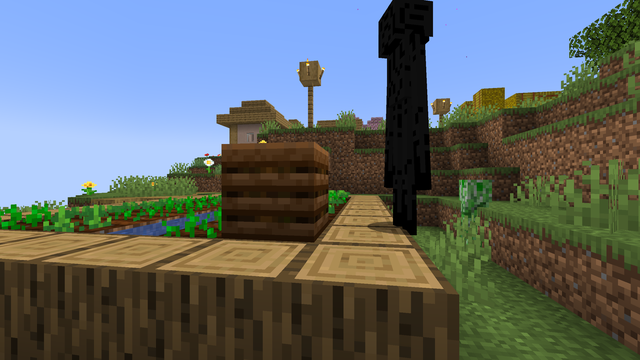creepers: (456, 176, 495, 253)
endermens: (379, 0, 434, 232)
